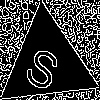S: (22, 38, 67, 94)
